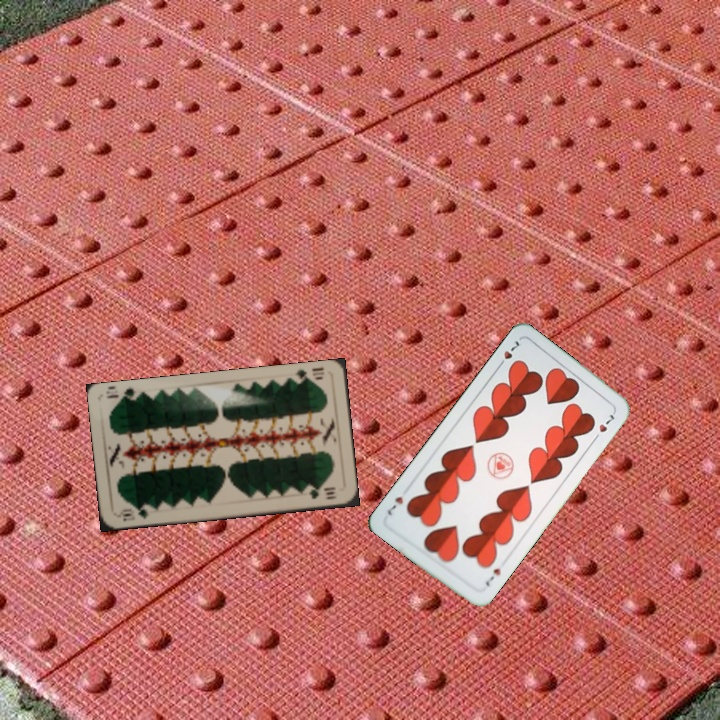G10: (290, 363, 327, 386), (114, 503, 150, 521)
H7: (493, 336, 522, 371), (481, 564, 503, 589)
